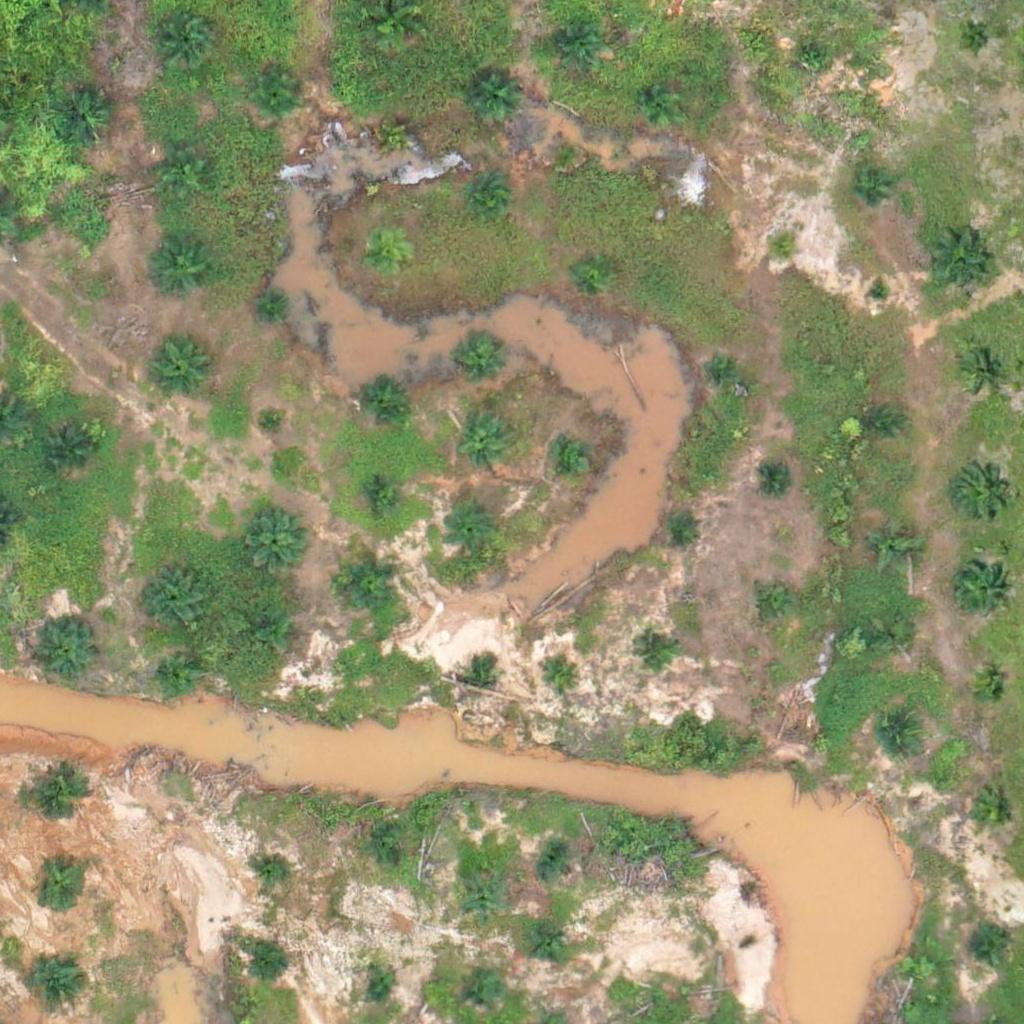Kelapa_Sawit: (144, 225, 219, 301), (924, 233, 987, 296), (157, 7, 220, 70), (52, 86, 115, 149), (37, 618, 99, 681), (149, 337, 212, 399), (241, 504, 304, 566), (951, 560, 1013, 623), (147, 563, 209, 626), (342, 555, 404, 617), (32, 862, 82, 913), (32, 768, 82, 819), (465, 76, 515, 127), (360, 233, 410, 284), (455, 334, 505, 385), (954, 463, 1004, 514), (967, 787, 1017, 838), (870, 520, 920, 571), (373, 105, 423, 156), (35, 958, 85, 1008), (45, 418, 95, 468), (160, 156, 210, 206), (353, 373, 403, 423), (460, 418, 510, 468), (446, 504, 496, 554), (549, 21, 599, 71), (153, 647, 203, 697), (241, 610, 291, 660), (967, 928, 1005, 966), (860, 405, 898, 443), (254, 286, 292, 324), (643, 84, 681, 122), (795, 40, 833, 78), (957, 21, 995, 59), (763, 230, 801, 268), (365, 475, 403, 513), (254, 850, 292, 888), (366, 964, 404, 1002), (534, 919, 572, 957), (533, 844, 571, 882), (258, 73, 296, 110), (553, 442, 590, 480), (970, 672, 1008, 709), (966, 349, 1003, 387), (760, 460, 798, 497), (636, 635, 673, 673), (877, 618, 915, 655), (66, 207, 103, 245), (847, 169, 884, 207), (544, 130, 581, 168), (255, 400, 292, 438), (540, 659, 577, 697), (244, 945, 282, 982), (377, 844, 414, 882), (462, 881, 499, 919), (467, 973, 504, 1011), (470, 180, 507, 217), (878, 716, 915, 753), (658, 508, 695, 545), (755, 586, 792, 623), (575, 253, 612, 290), (706, 351, 743, 388), (463, 665, 488, 691), (866, 279, 891, 304)
